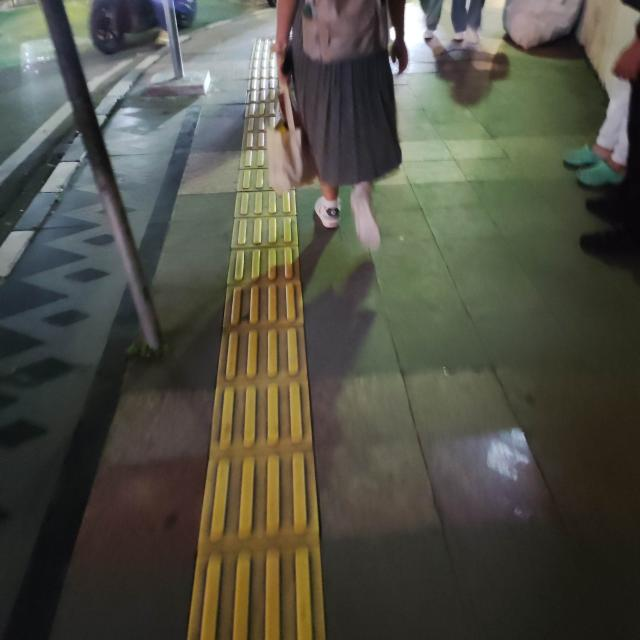lurus: (194, 109, 324, 640)
